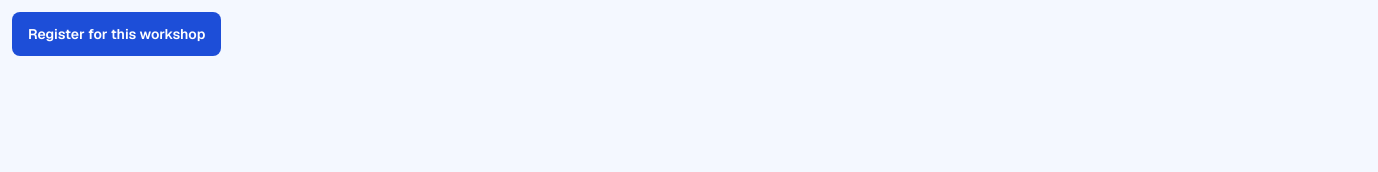
Test: RegisterButton › registers a member and shows a confirmation
Click the button "Register for this workshop".
click(117, 34)  # box [12,12,221,56]
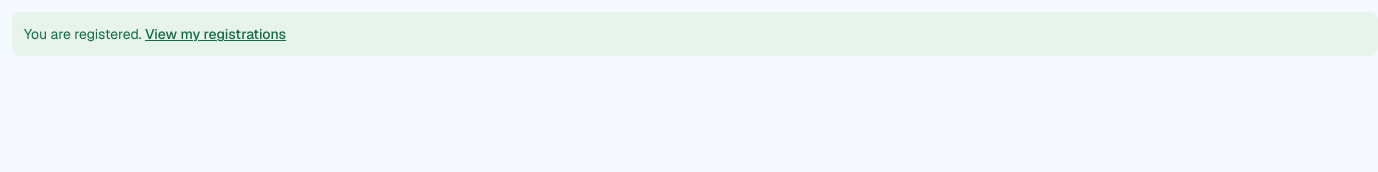
Expected: the message shows "You are registered", [24,25,142,43]
